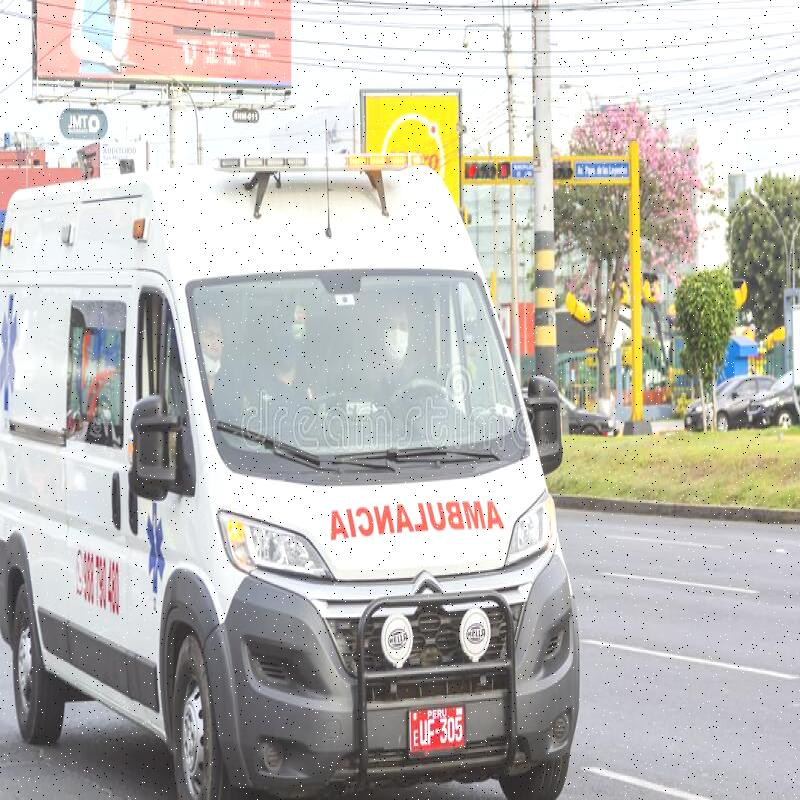ambulance: (2, 153, 577, 800)
